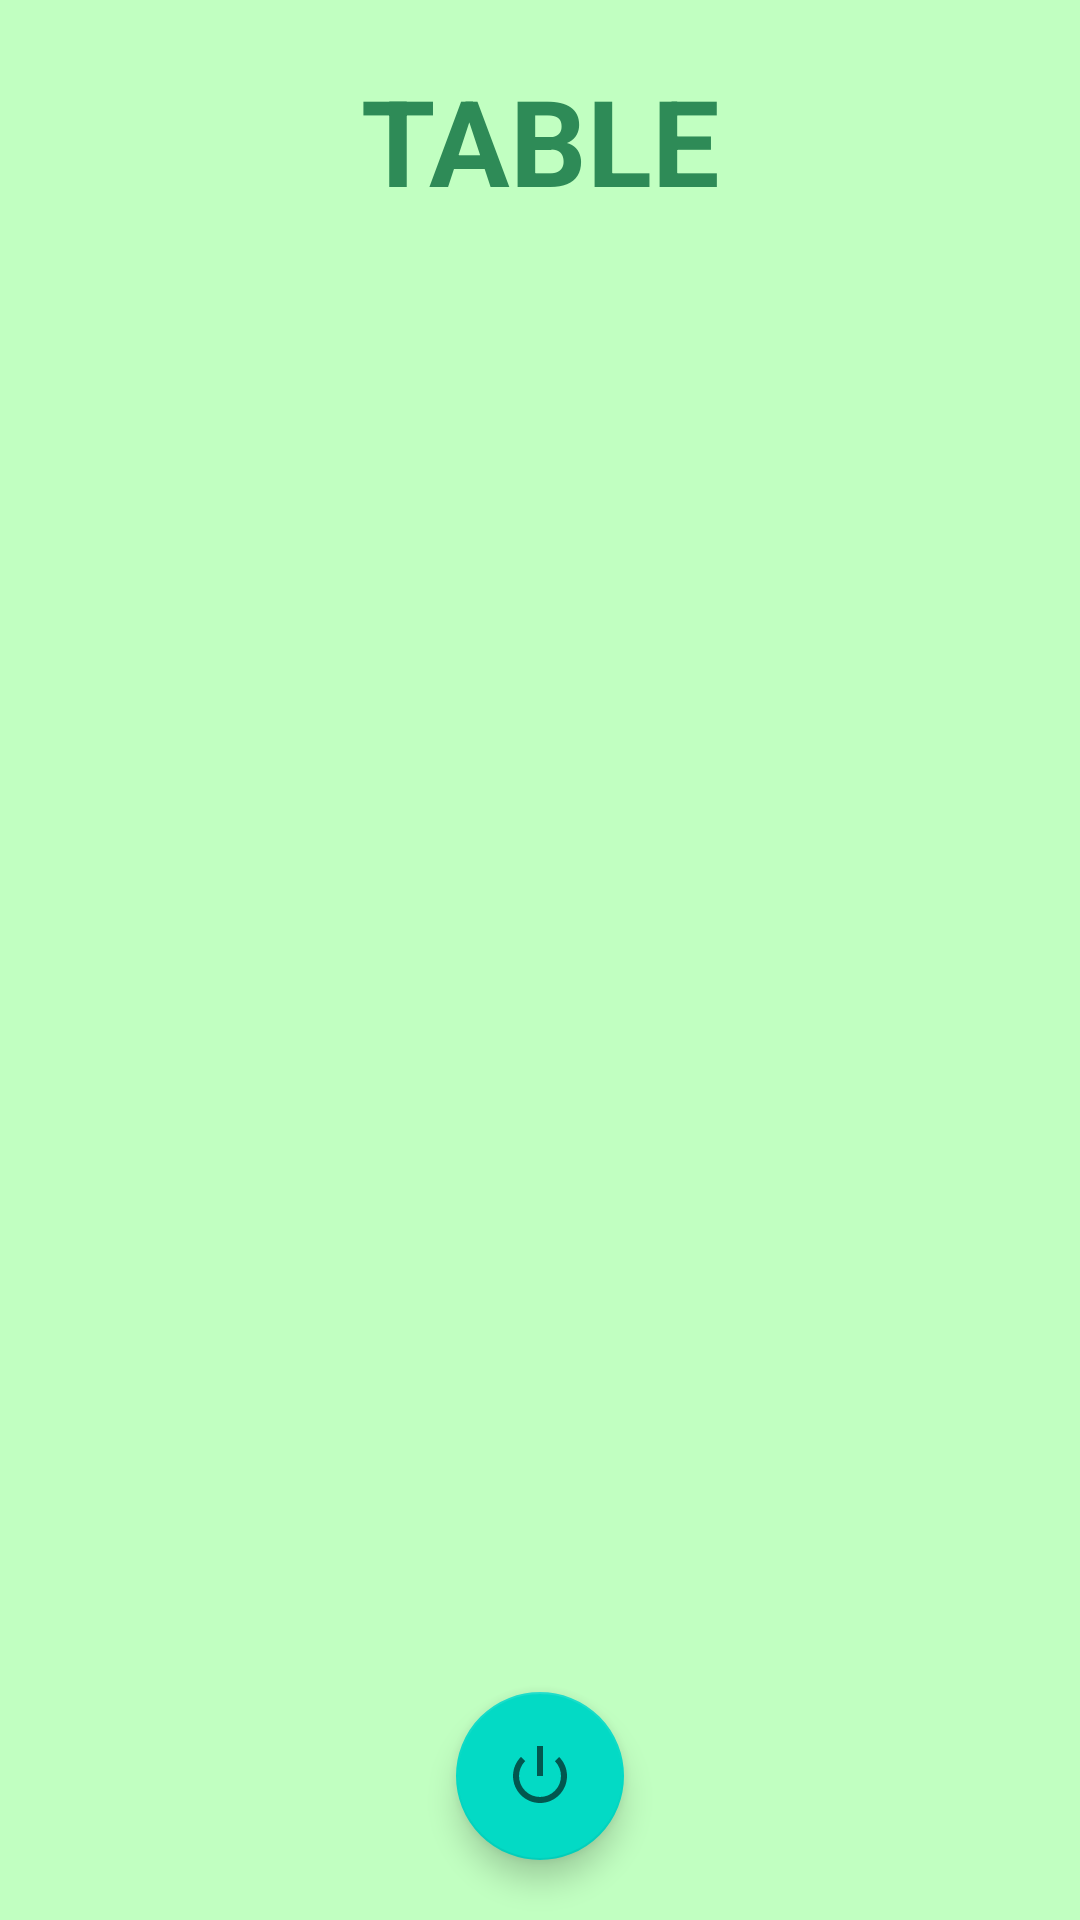

Locate icon controls on the screen. Image size 1080px×1920px, boxes as rect(x1, y1, x2, y2).
lock power off: rect(456, 1692, 624, 1860)
